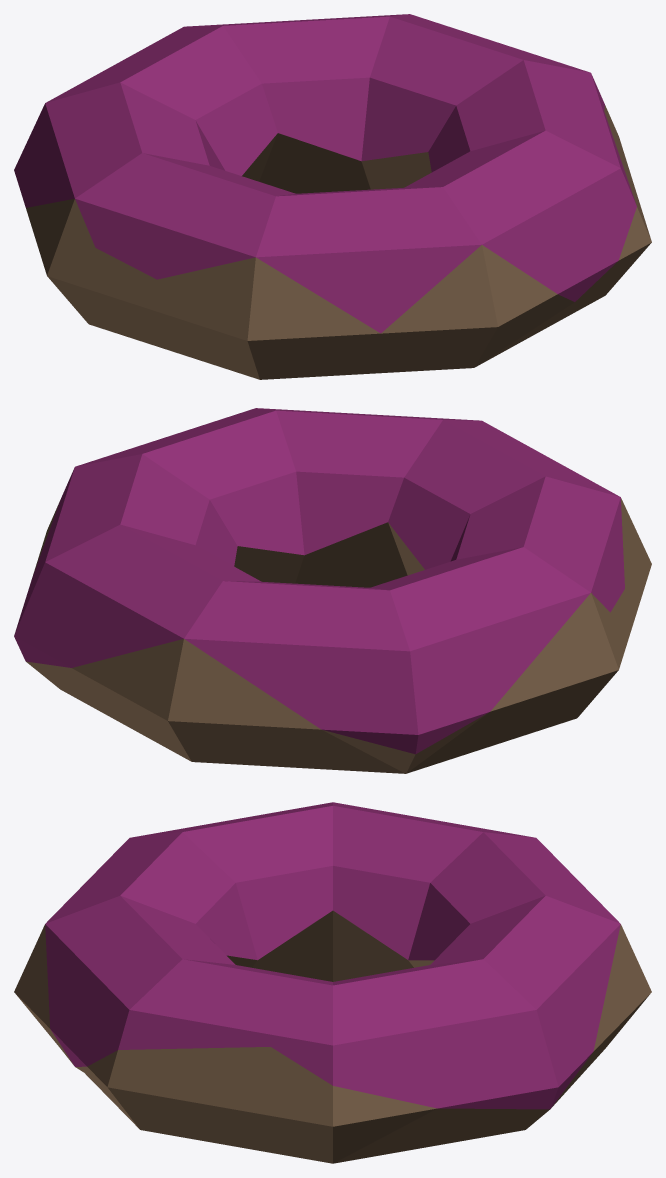
Rendered from donut.glb.
3 views of the same model, one above another, from view 1: azimuth 30°, elevation 25°; view 2: azimuth 150°, elevation 25°; view 3: azimuth 270°, elevation 25° (orthographic). The views are drawn at different scales.
Visible parts, largest first — view 1: SM_Prop_Donut_01; view 2: SM_Prop_Donut_01; view 3: SM_Prop_Donut_01.
Part boxes in pixels (box(x1,y1,x2,y2)): SM_Prop_Donut_01: box(14, 14, 651, 379); SM_Prop_Donut_01: box(14, 408, 651, 773); SM_Prop_Donut_01: box(14, 802, 651, 1163).
Size of the model in its own units: 13.51 by 4.17 by 13.51.
1 material, 1 textured.
